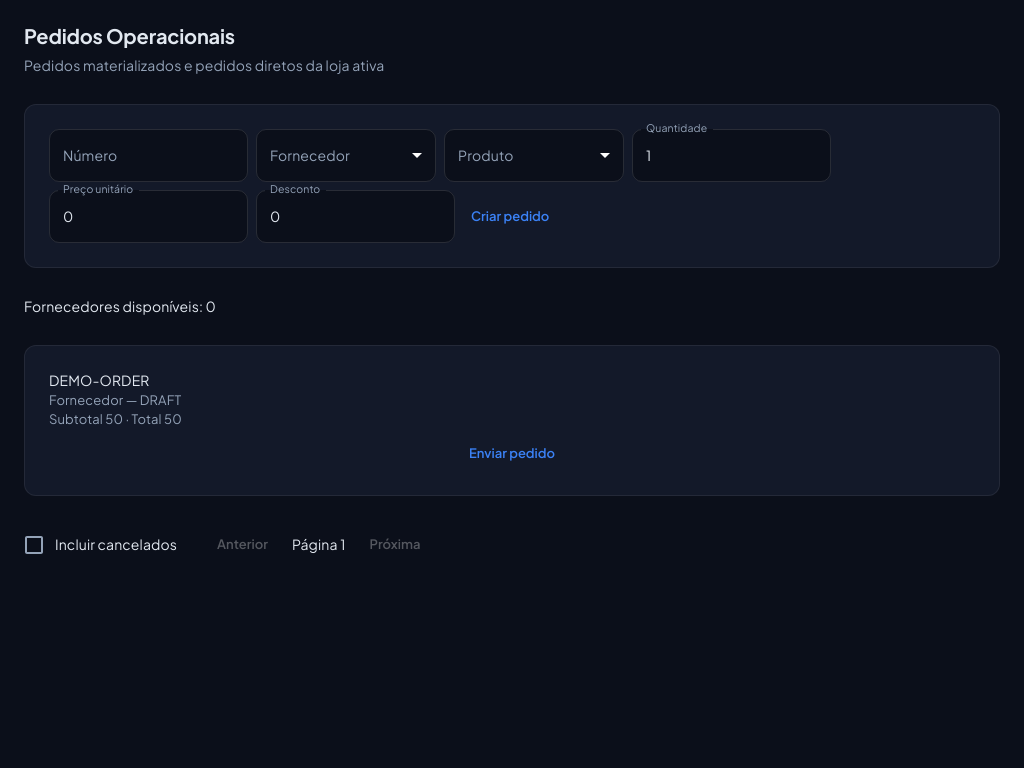
Test: Pedidos Operacionais › mostra erro dentro do diálogo e permite repetir após falha transitória
The image size is (1024, 768).
Click the button "Enviar pedido" at [512, 454], box [49,436,975,471]
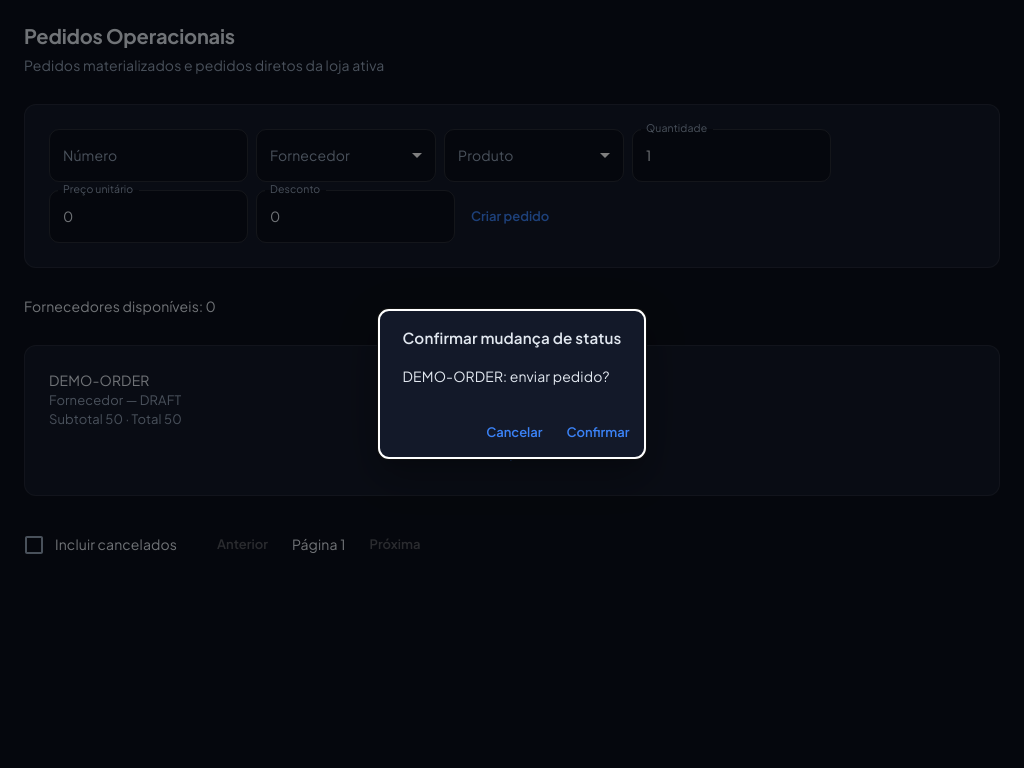
Click the button "Confirmar" at [598, 433], box [558,415,637,450]
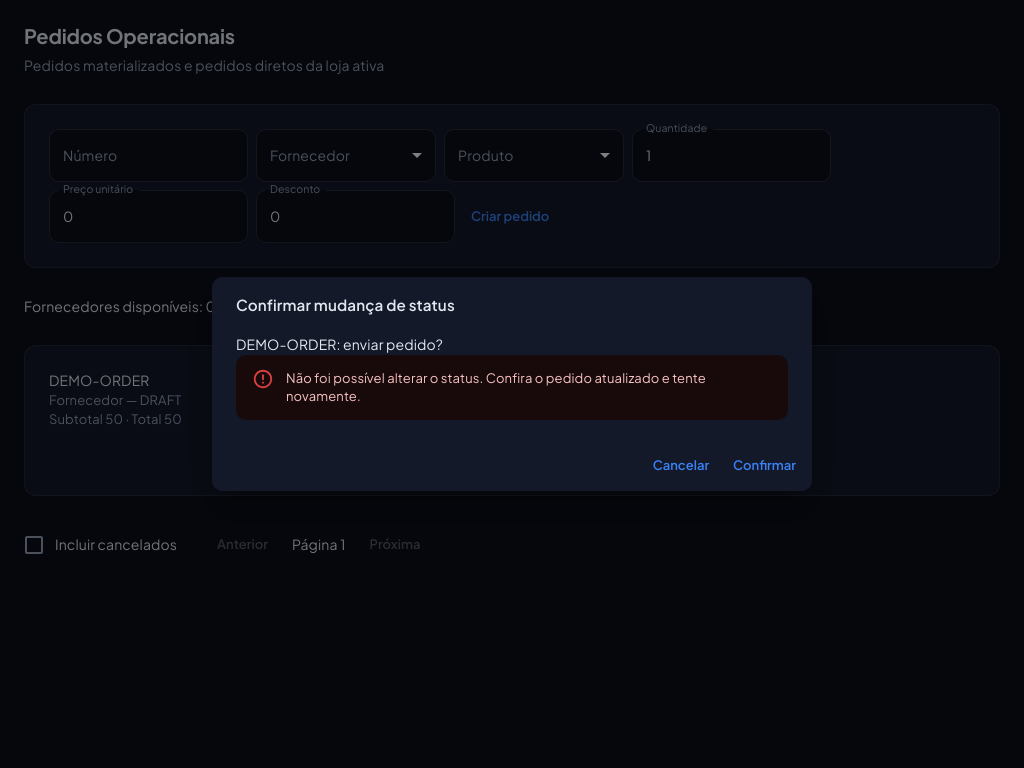
expect the text "Não foi possível alterar o status" is shown: met, box [286,370,706,404]
Click the button "Confirmar" at [765, 465], box [725,448,804,483]
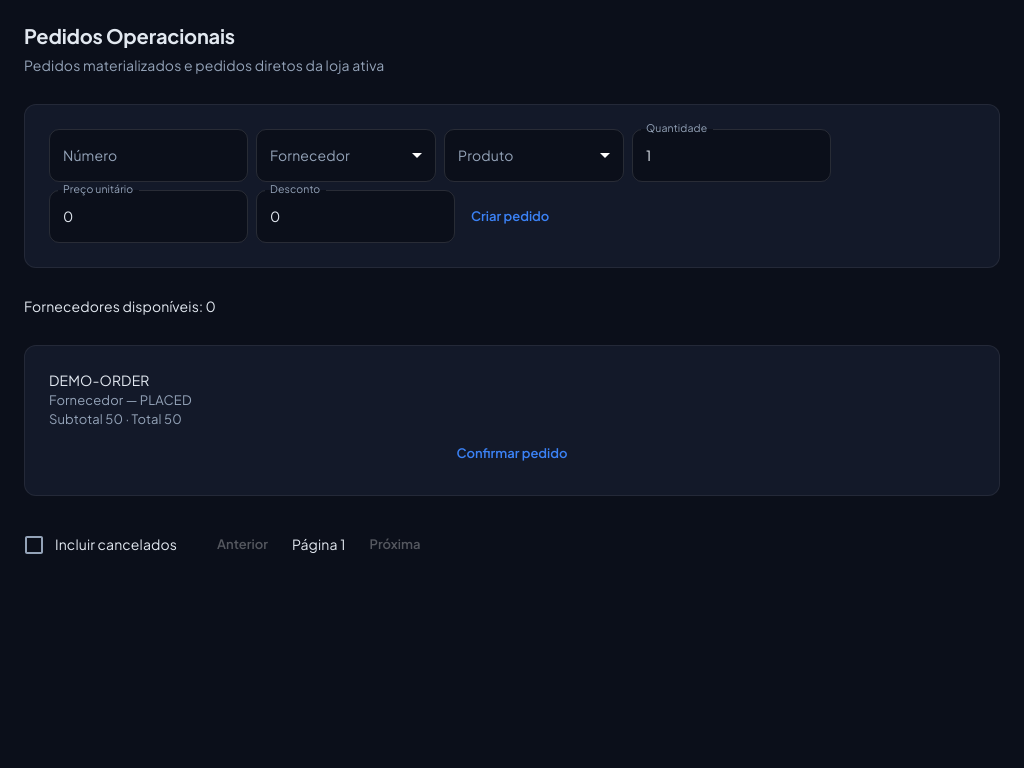
expect the button "Confirmar pedido" is shown: met, box [49,436,975,471]
